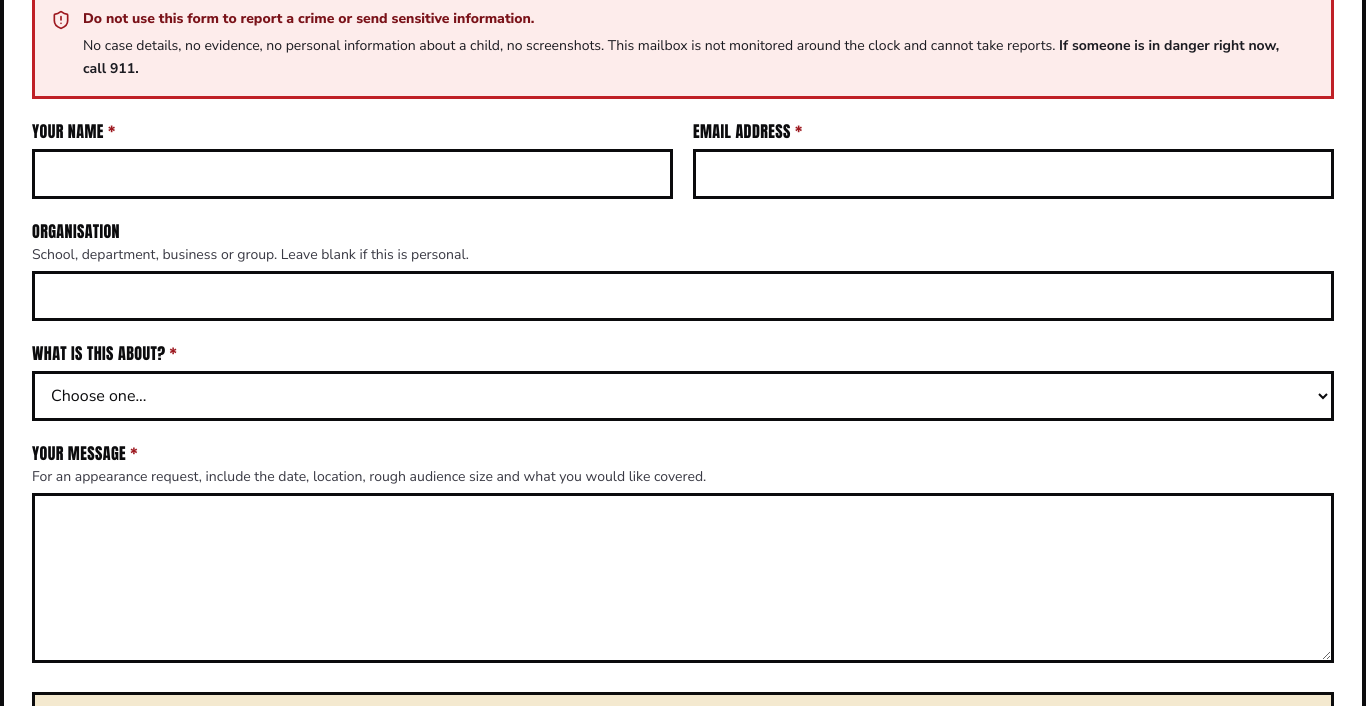
contact form validation › rejects a malformed email address
The image size is (1366, 706).
Type "Alex Reed" into the field labelled "Your name *" at (352, 174), box left=32, top=149, right=673, bottom=199
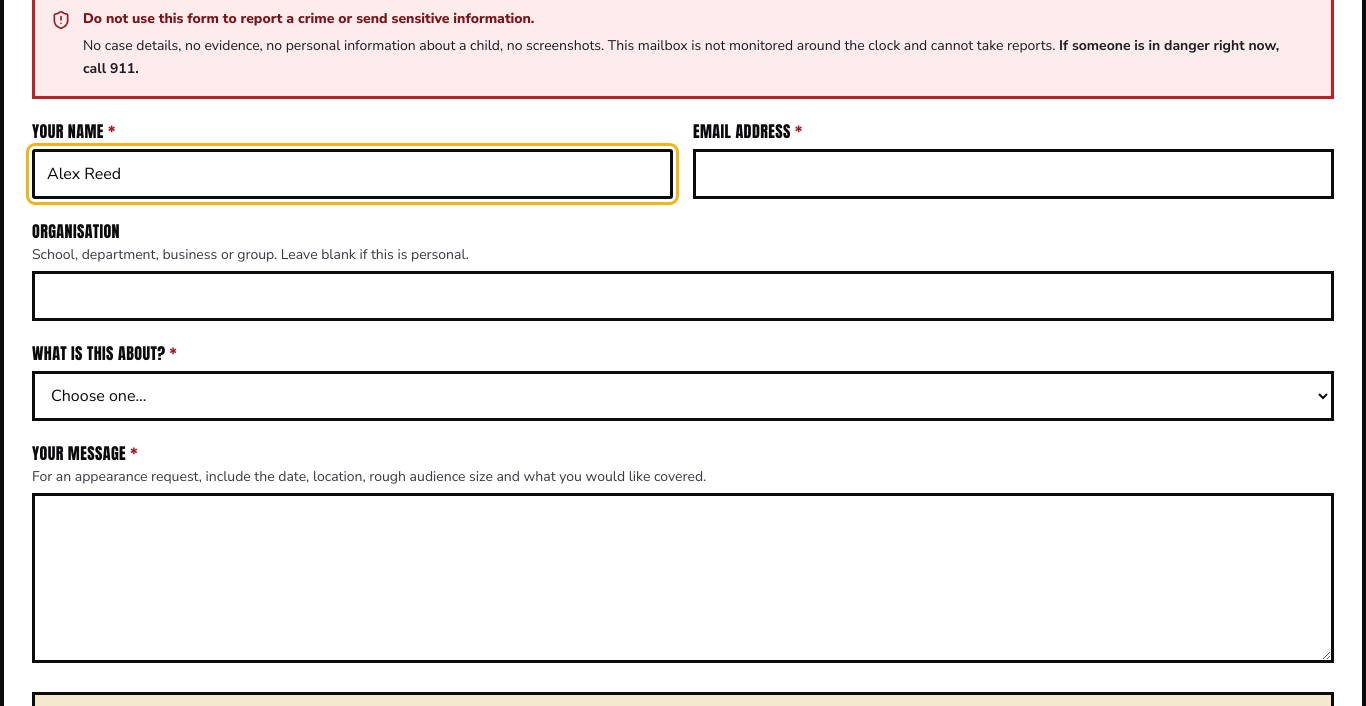
Type "not-an-email" into the field labelled "Email address *" at (1014, 174), box left=693, top=149, right=1334, bottom=199
(page scrolled)
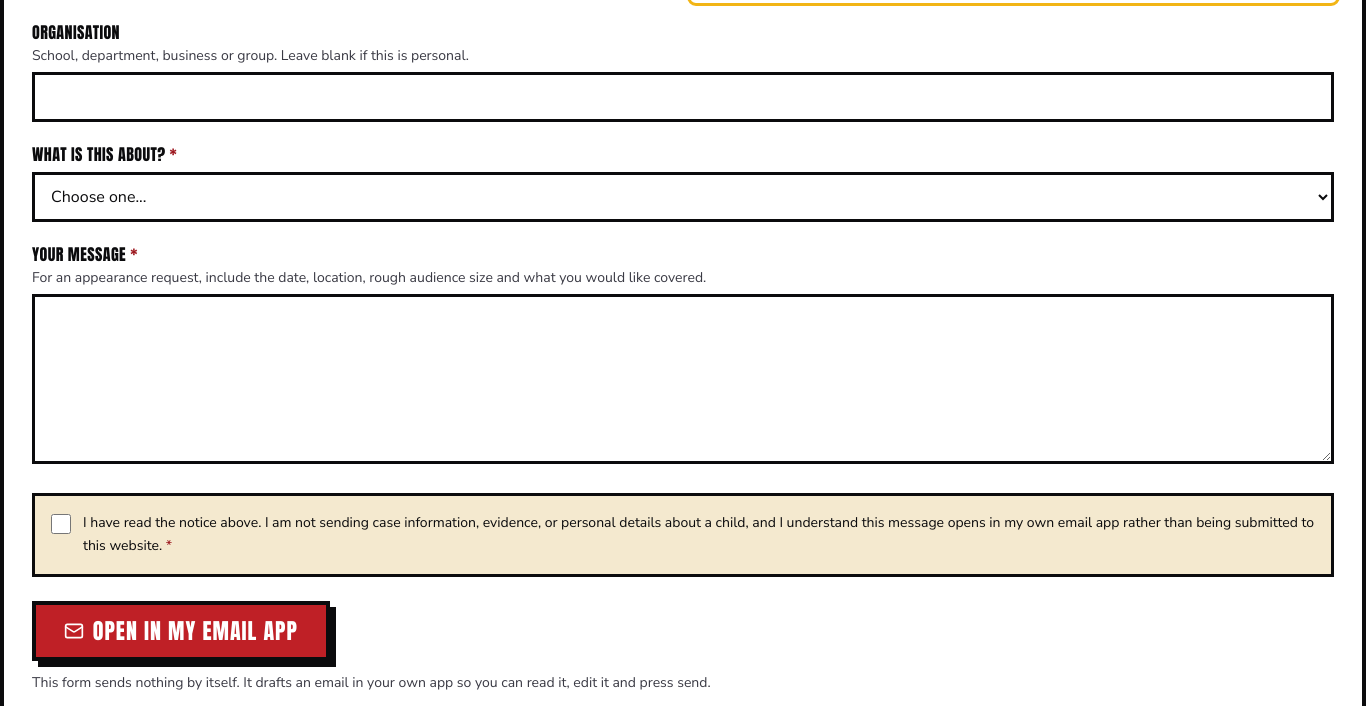
Click the button "Open in my email app" at (181, 631), box left=32, top=601, right=330, bottom=661
(page scrolled)
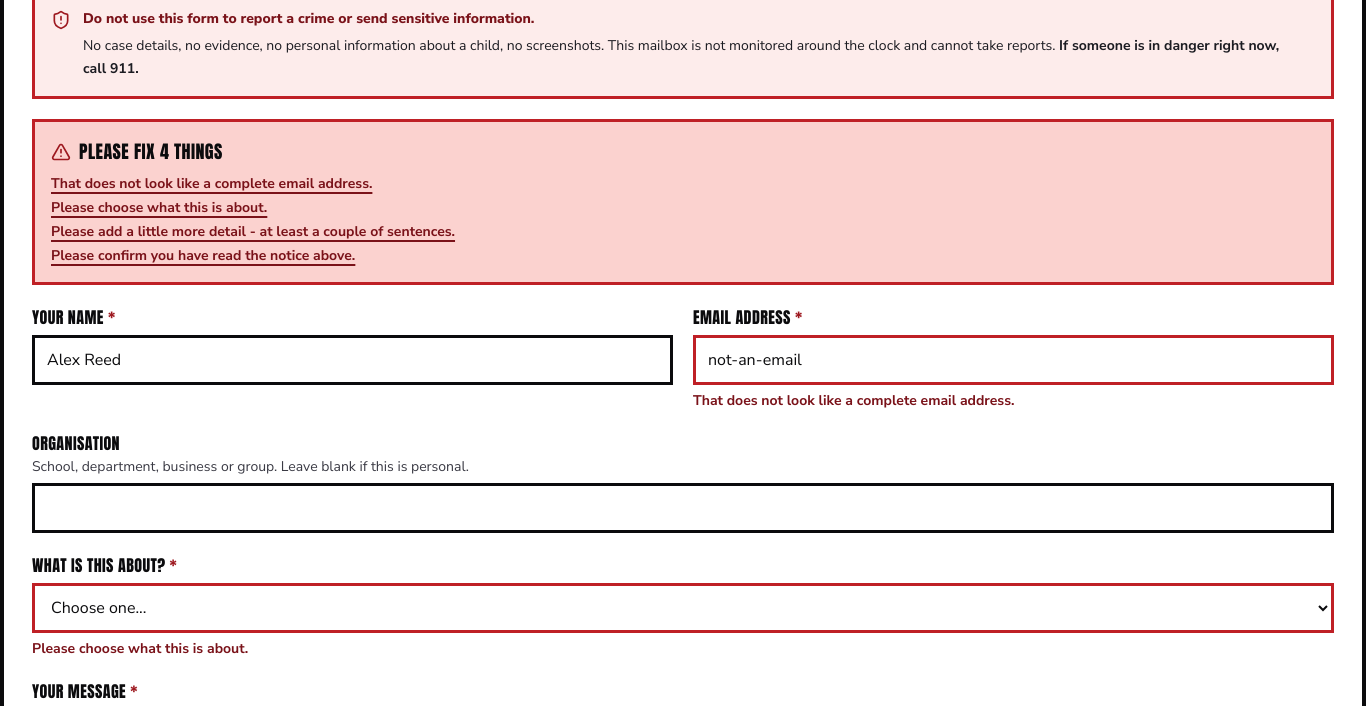
Expected: the link "That does not look like a complete email address." is shown, left=51, top=174, right=372, bottom=193
